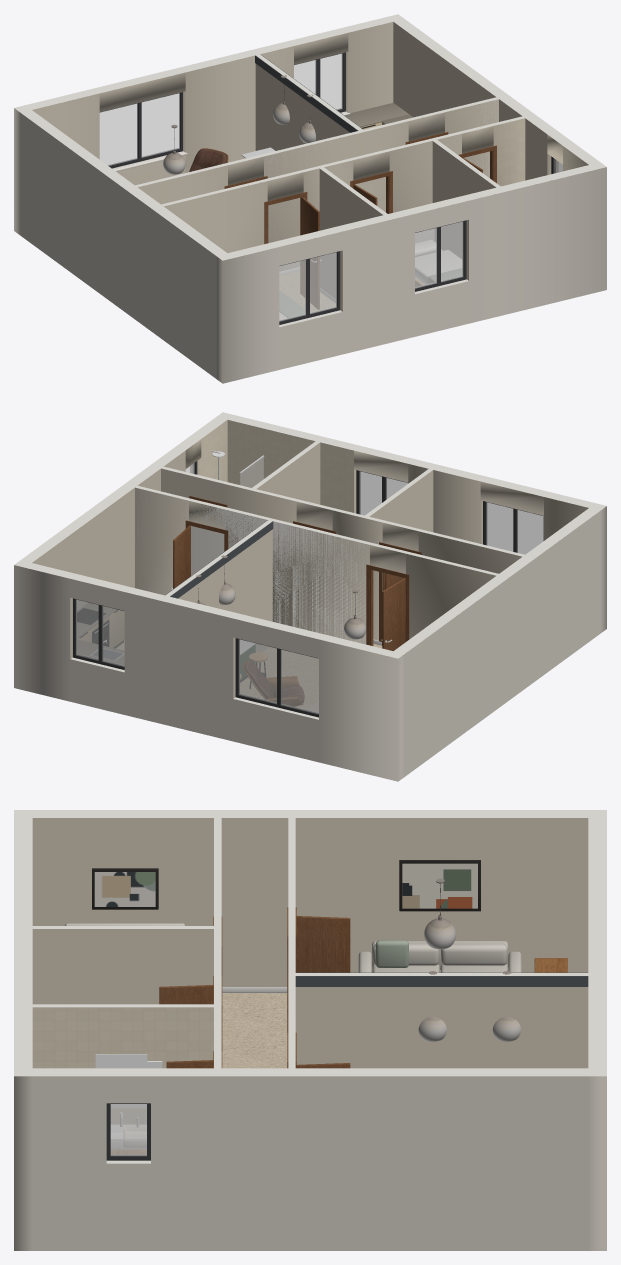
The model's file is escena.glb.
3 views of the same model, one above another, from view 1: azimuth 30°, elevation 25°; view 2: azimuth 150°, elevation 25°; view 3: azimuth 270°, elevation 25° (orthographic). The views are drawn at different scales.
Parts seen in each view (by area): view 1: actual_fachada_sur_FACHADA, actual_fachada_oeste_FACHADA, actual_fachada_norte_PINT_VIEJA, actual_pasillo_norte_PINT_VIEJA, actual_pasillo_sur_PINT_VIEJA, actual_fachada_este_PINT_VIEJA, actual_fachada_norte_ventana_1.5_VIDRIO, reforma_fachada_norte_ventana_1.5_VIDRIO, actual_tabique_cocina_PINT_VIEJA, actual_fachada_sur_CORTE, actual_fachada_sur_ventana_1.0_VIDRIO, reforma_fachada_sur_ventana_1.0_VIDRIO (+27 smaller); view 2: actual_fachada_norte_FACHADA, actual_fachada_oeste_FACHADA, actual_pasillo_norte_PINT_VIEJA, reforma_pasillo_norte_P03, actual_pasillo_sur_PINT_VIEJA, actual_fachada_sur_PINT_VIEJA, actual_fachada_este_PINT_VIEJA, actual_fachada_sur_OLD_BANO_PARED, actual_tabique_cocina_PINT_VIEJA, actual_fachada_norte_ventana_1.5_VIDRIO, reforma_fachada_norte_ventana_1.5_VIDRIO, actual_fachada_norte_CORTE (+27 smaller); view 3: actual_fachada_este_FACHADA, actual_fachada_oeste_PINT_VIEJA, actual_tabique_cocina_PINT_VIEJA, actual_tabique_dormitorios_PINT_VIEJA, actual_tabique_bano_OLD_BANO_PARED, actual, actual_fachada_este_CORTE, actual_fachada_norte_CORTE, actual_fachada_sur_CORTE, actual_suelo_pasillo_OLD_TERRAZO, actual_fachada_oeste_CORTE, actual_sofa_TELA_SOFA (+19 smaller).
Part boxes in pixels (x1,y1,x2,y2): actual_fachada_sur_FACHADA: (216, 167, 606, 383); actual_fachada_oeste_FACHADA: (20, 113, 216, 378); actual_fachada_norte_PINT_VIEJA: (32, 22, 393, 185); actual_pasillo_norte_PINT_VIEJA: (138, 99, 498, 271); actual_pasillo_sur_PINT_VIEJA: (164, 133, 461, 253); actual_fachada_este_PINT_VIEJA: (393, 22, 547, 180); actual_fachada_norte_ventana_1.5_VIDRIO: (100, 93, 179, 165); reforma_fachada_norte_ventana_1.5_VIDRIO: (100, 93, 179, 165); actual_tabique_cocina_PINT_VIEJA: (255, 64, 349, 150); actual_fachada_sur_CORTE: (216, 162, 606, 327); actual_fachada_sur_ventana_1.0_VIDRIO: (279, 252, 336, 320); reforma_fachada_sur_ventana_1.0_VIDRIO: (279, 252, 336, 320); actual_fachada_norte_FACHADA: (14, 565, 404, 781); actual_fachada_oeste_FACHADA: (404, 511, 600, 776); actual_pasillo_norte_PINT_VIEJA: (135, 487, 495, 643); reforma_pasillo_norte_P03: (135, 489, 369, 644); actual_pasillo_sur_PINT_VIEJA: (161, 468, 521, 640); actual_fachada_sur_PINT_VIEJA: (354, 450, 588, 544); actual_fachada_este_PINT_VIEJA: (32, 450, 185, 610); actual_fachada_sur_OLD_BANO_PARED: (227, 420, 353, 512); actual_tabique_cocina_PINT_VIEJA: (178, 529, 272, 652); actual_fachada_norte_ventana_1.5_VIDRIO: (239, 639, 318, 713); reforma_fachada_norte_ventana_1.5_VIDRIO: (239, 639, 318, 713); actual_fachada_norte_CORTE: (14, 560, 404, 719); actual_fachada_este_FACHADA: (32, 1076, 588, 1250); actual_fachada_oeste_PINT_VIEJA: (32, 818, 588, 987); actual_tabique_cocina_PINT_VIEJA: (295, 987, 588, 1068); actual_tabique_dormitorios_PINT_VIEJA: (32, 929, 213, 1004); actual_tabique_bano_OLD_BANO_PARED: (32, 1007, 213, 1124); actual: (94, 863, 567, 972); actual_fachada_este_CORTE: (32, 1068, 588, 1163); actual_fachada_norte_CORTE: (588, 810, 606, 1076); actual_fachada_sur_CORTE: (14, 810, 32, 1076); actual_suelo_pasillo_OLD_TERRAZO: (222, 993, 287, 1068); actual_fachada_oeste_CORTE: (32, 810, 588, 817); actual_sofa_TELA_SOFA: (358, 941, 521, 972).
Bounding box in the file's own units: 8.5 × 2.6 × 8.
49 materials, 24 textured.
